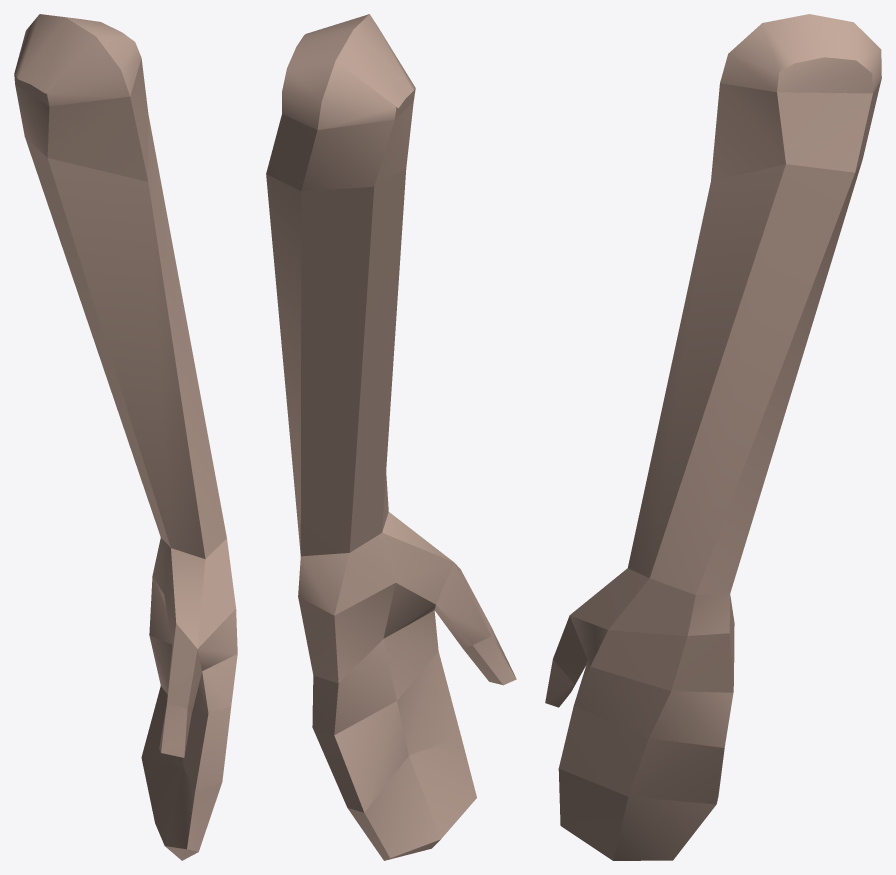
The model's file is braDer.obj.
The picture shows the model from 3 angles, left to right: view 1: azimuth 30°, elevation 25°; view 2: azimuth 150°, elevation 25°; view 3: azimuth 270°, elevation 25°; orthographic projection. The views are drawn at different scales.
Visible parts, largest first — view 1: polySurface19 polySurface18 polySurface11 polySurface4 polySurfa; view 2: polySurface19 polySurface18 polySurface11 polySurface4 polySurfa; view 3: polySurface19 polySurface18 polySurface11 polySurface4 polySurfa.
Part boxes in pixels (x1=…): polySurface19 polySurface18 polySurface11 polySurface4 polySurfa: x1=14, y1=14, x2=237, y2=860; polySurface19 polySurface18 polySurface11 polySurface4 polySurfa: x1=266, y1=14, x2=516, y2=860; polySurface19 polySurface18 polySurface11 polySurface4 polySurfa: x1=545, y1=14, x2=881, y2=860.
Bounding box in the file's own units: 0.0981 × 0.5124 × 0.1874.
Materials: 1 (1 with a texture image).
